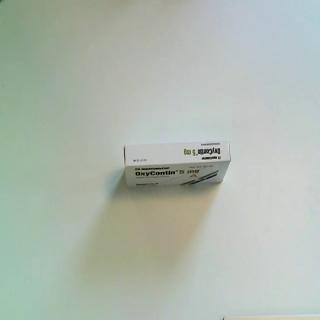oxycontin5mg: (123, 139, 233, 190)
